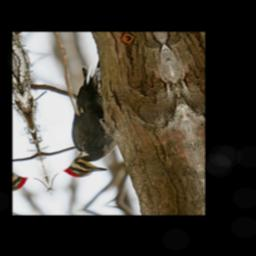Woodpecker: (34, 59, 132, 181)
